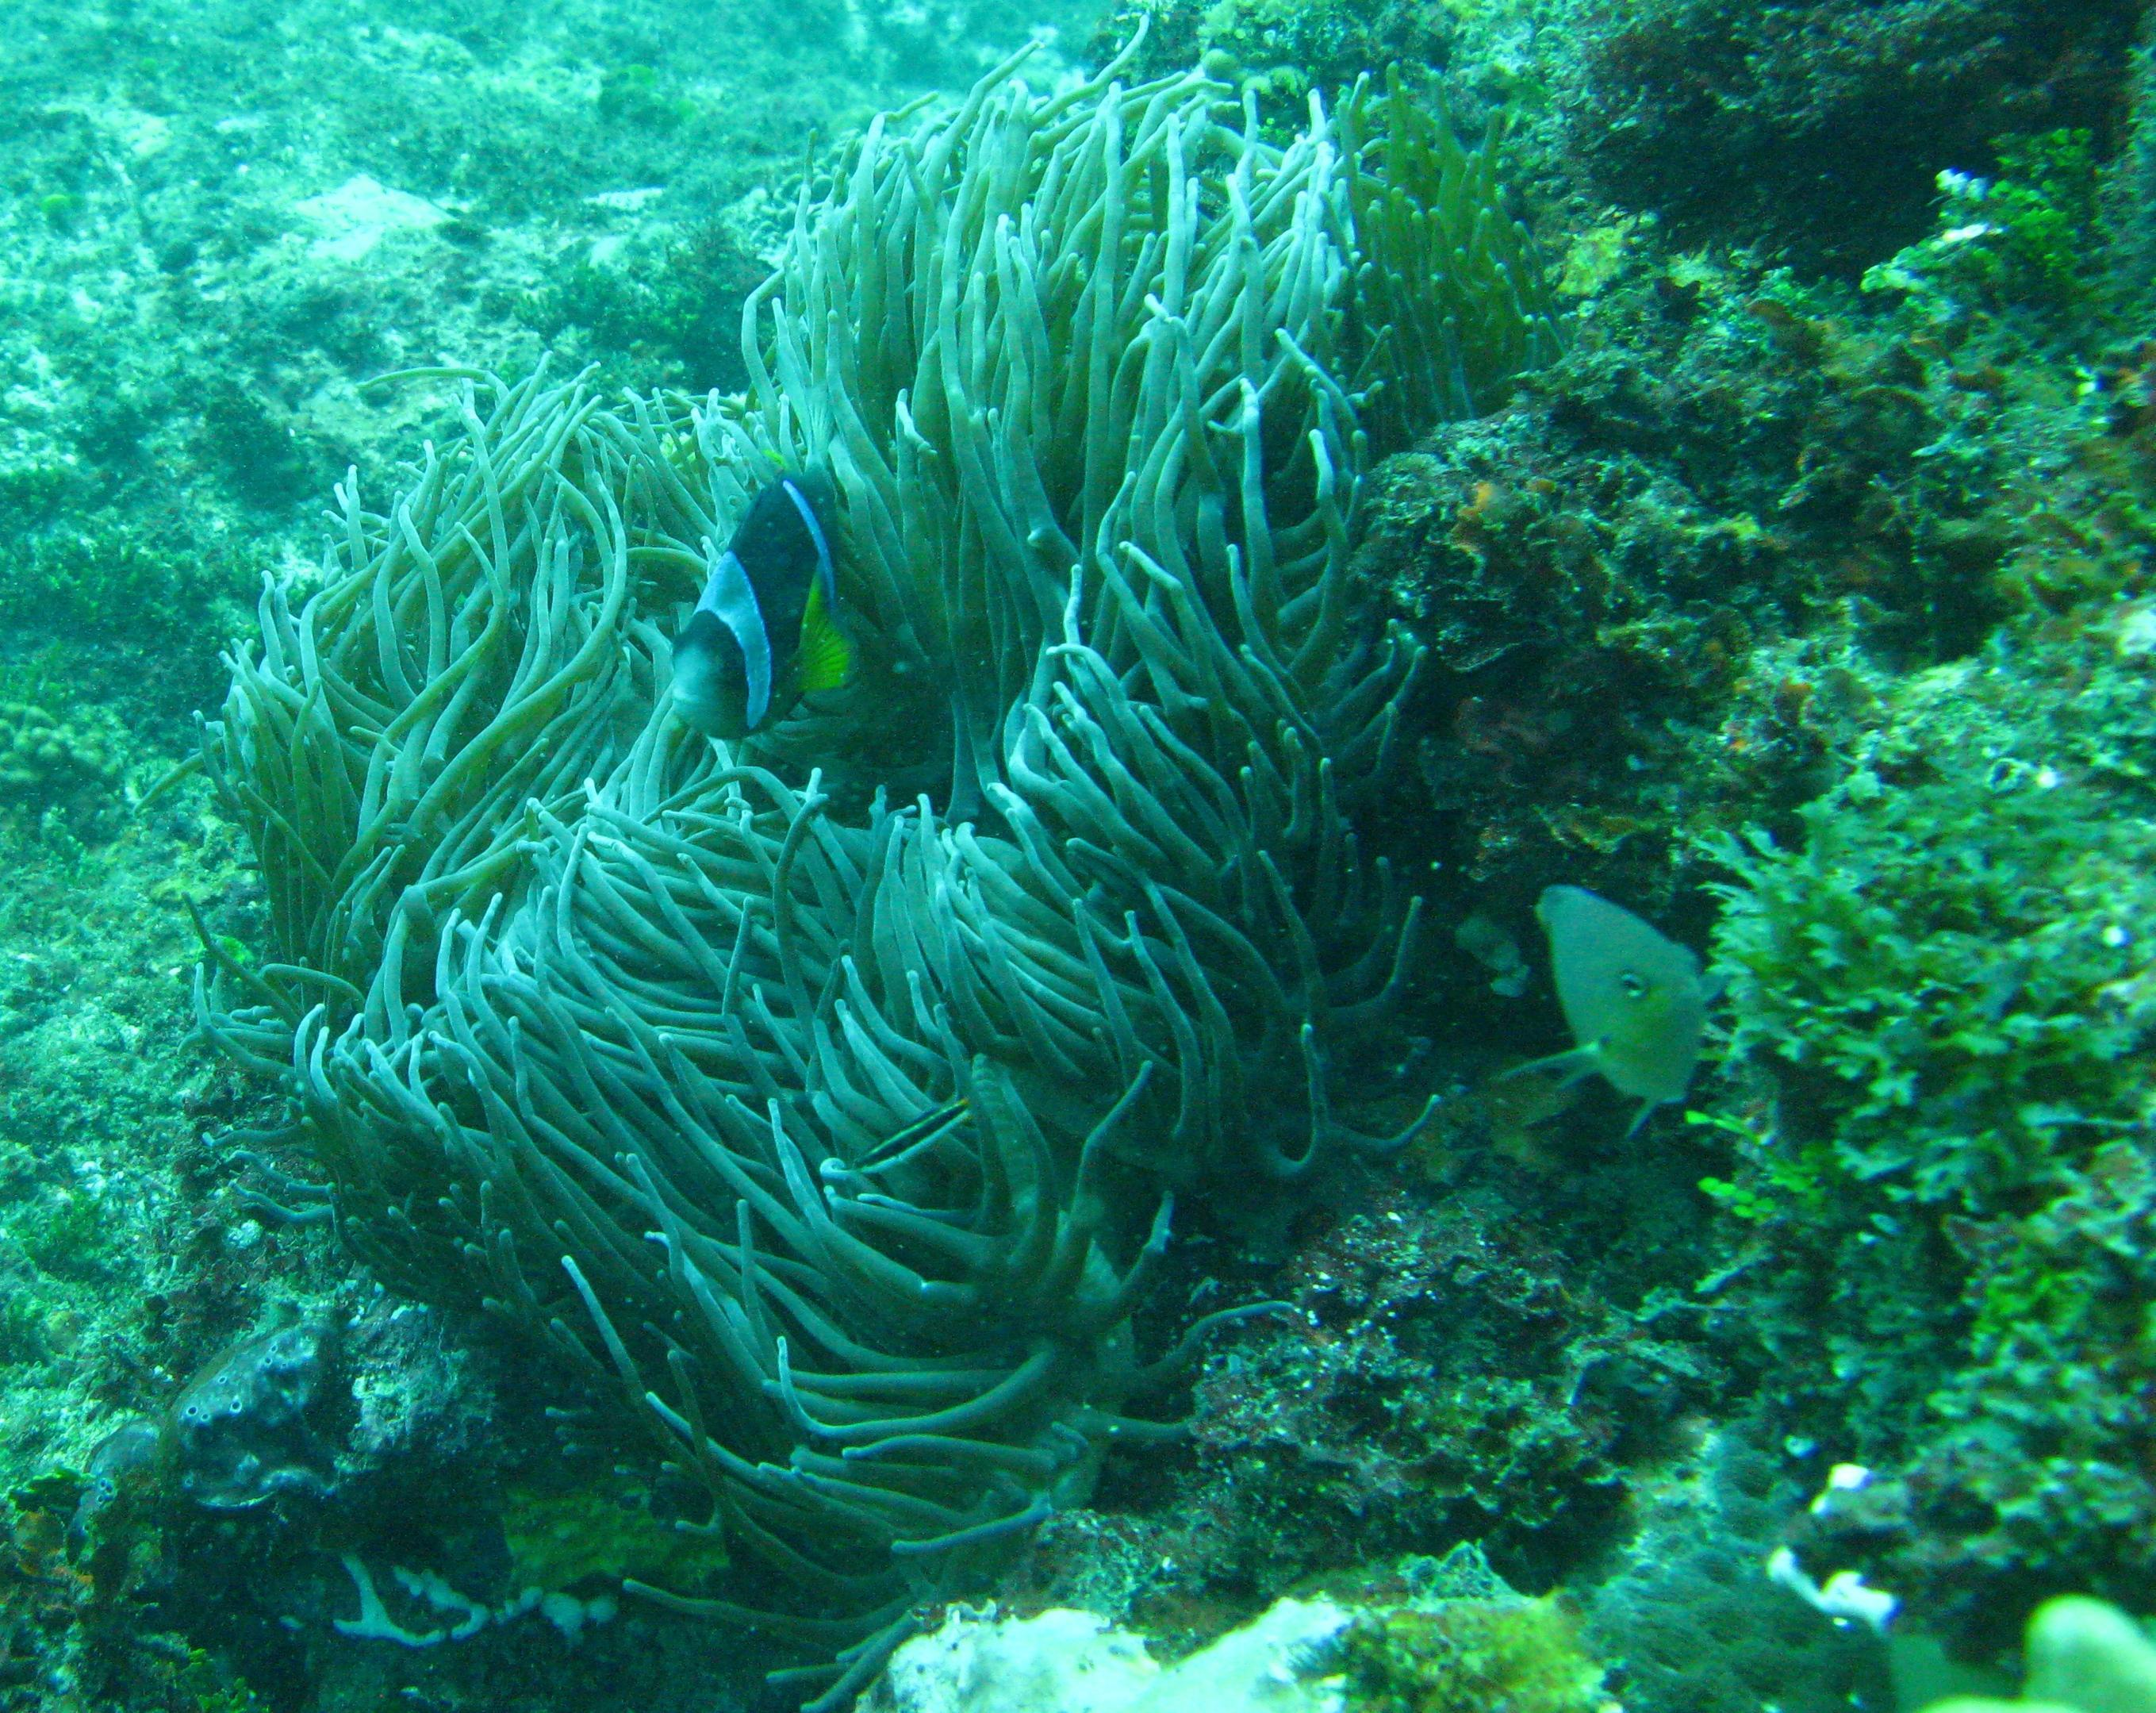Fish: (558, 404, 950, 786)
